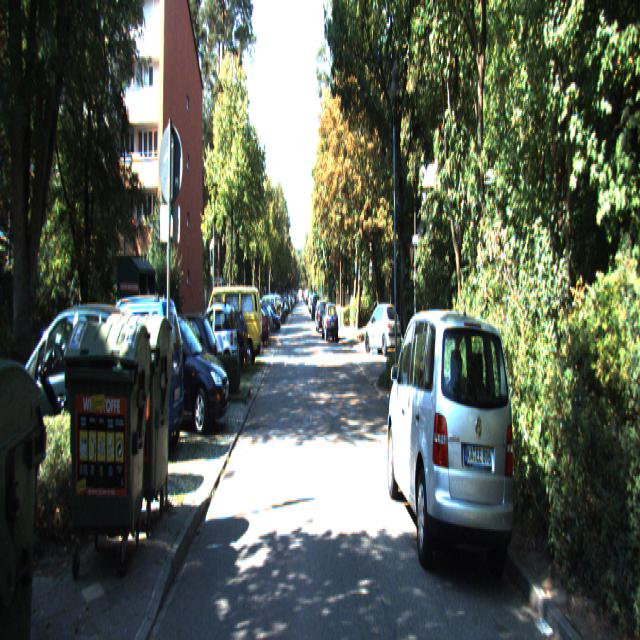Car: (383, 294, 521, 590), (0, 300, 152, 506), (51, 294, 186, 463), (129, 307, 230, 435), (205, 284, 262, 370), (185, 304, 239, 384), (196, 308, 248, 376), (364, 304, 402, 358), (322, 303, 338, 342)
